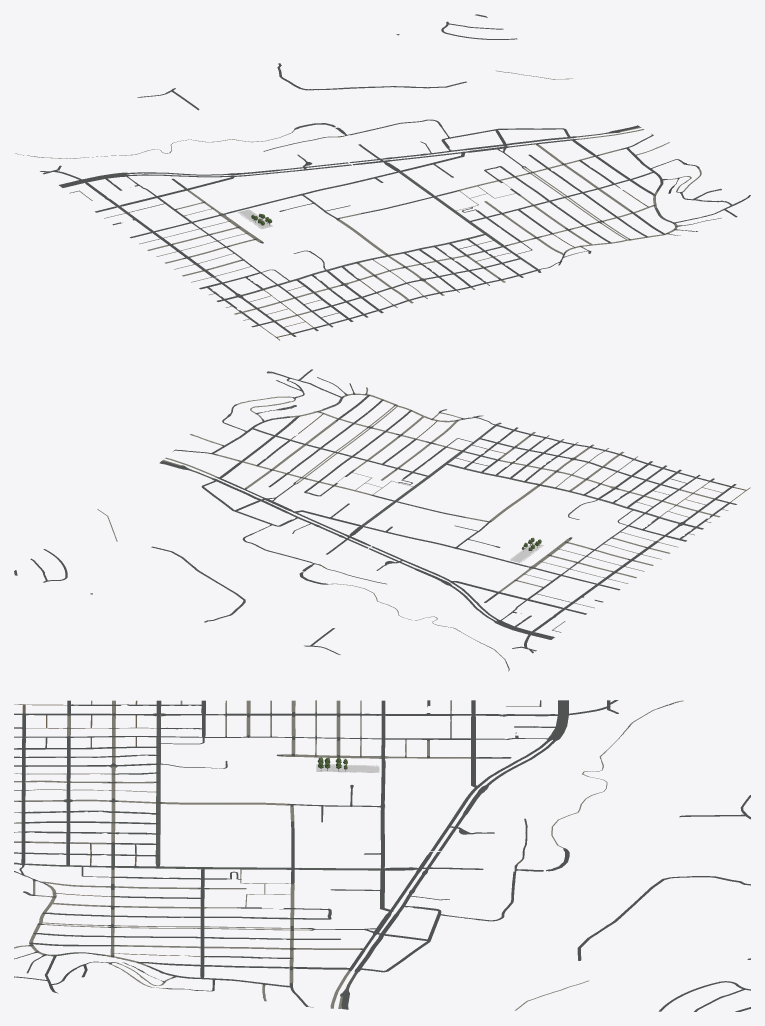
The model's file is surfaces.glb.
The picture shows the model from 3 angles, top to bottom: view 1: azimuth 30°, elevation 25°; view 2: azimuth 150°, elevation 25°; view 3: azimuth 270°, elevation 25°; orthographic projection. The views are drawn at different scales.
Visible parts, largest first — view 1: corridors-road, corridors-path; view 2: corridors-road, corridors-path; view 3: corridors-road, corridors-path.
Boxes of the visible parts, left/top/right/bottom form: corridors-road: left=40, top=14, right=750, bottom=340; corridors-path: left=15, top=70, right=652, bottom=210; corridors-road: left=14, top=369, right=750, bottom=654; corridors-path: left=97, top=450, right=509, bottom=671; corridors-road: left=14, top=700, right=750, bottom=1011; corridors-path: left=240, top=700, right=683, bottom=1010.
Bounding box in the file's own units: 2000 × 72.73 × 2000.
